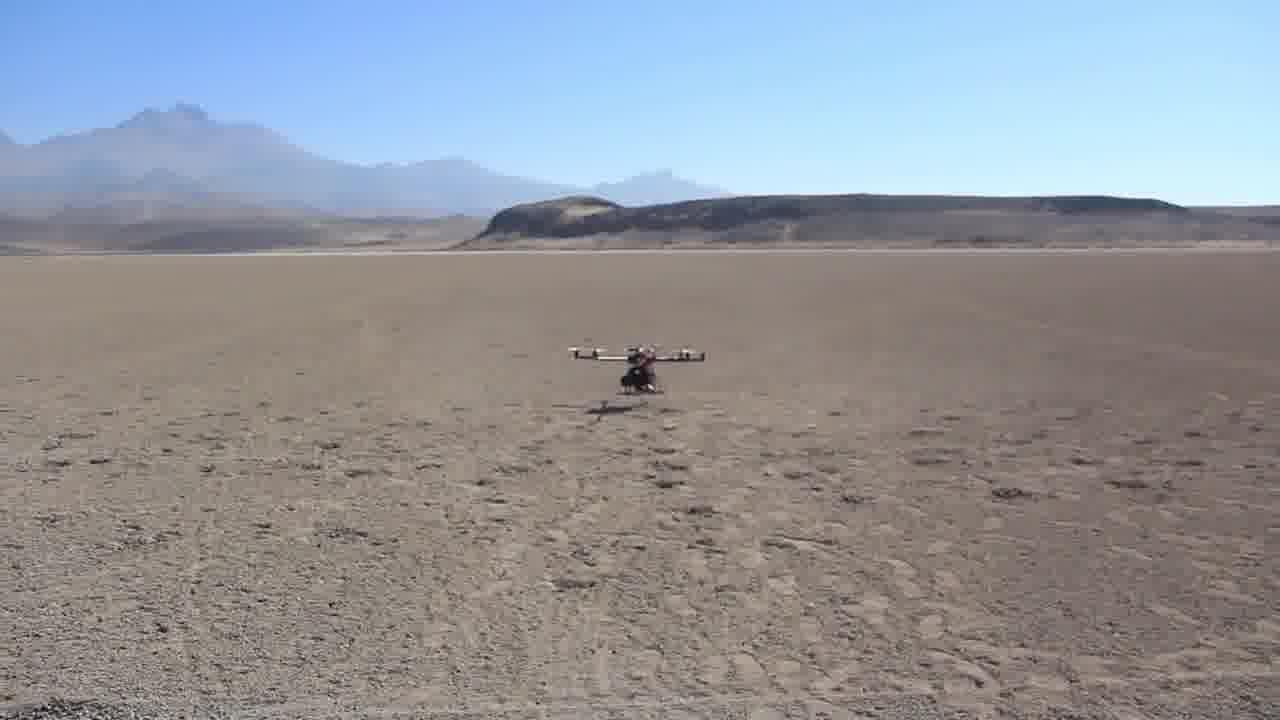drone: (558, 340, 709, 388)
